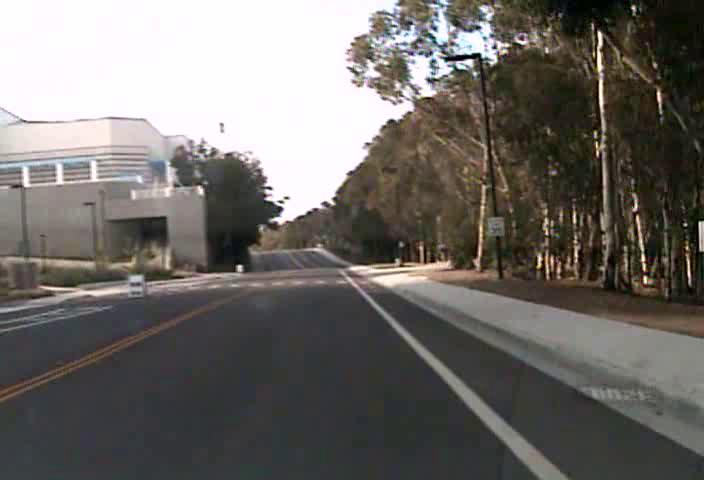speedLimit35: (486, 216, 505, 237)
